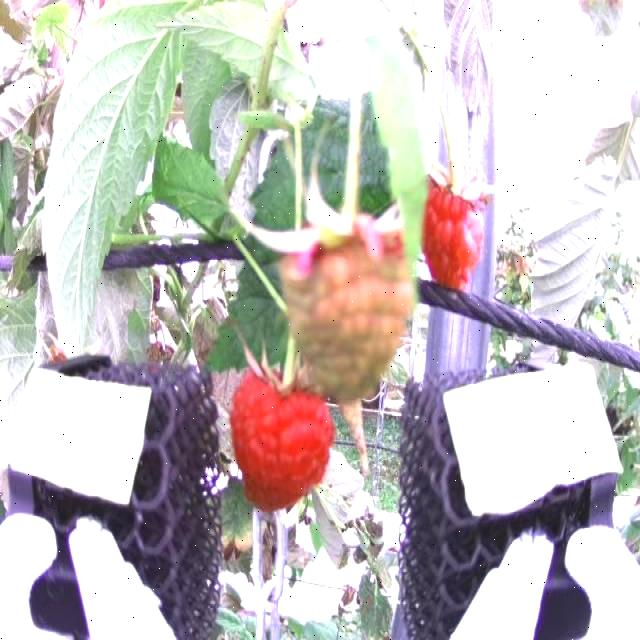Riped berries: (227, 362, 336, 514), (421, 170, 501, 296)
